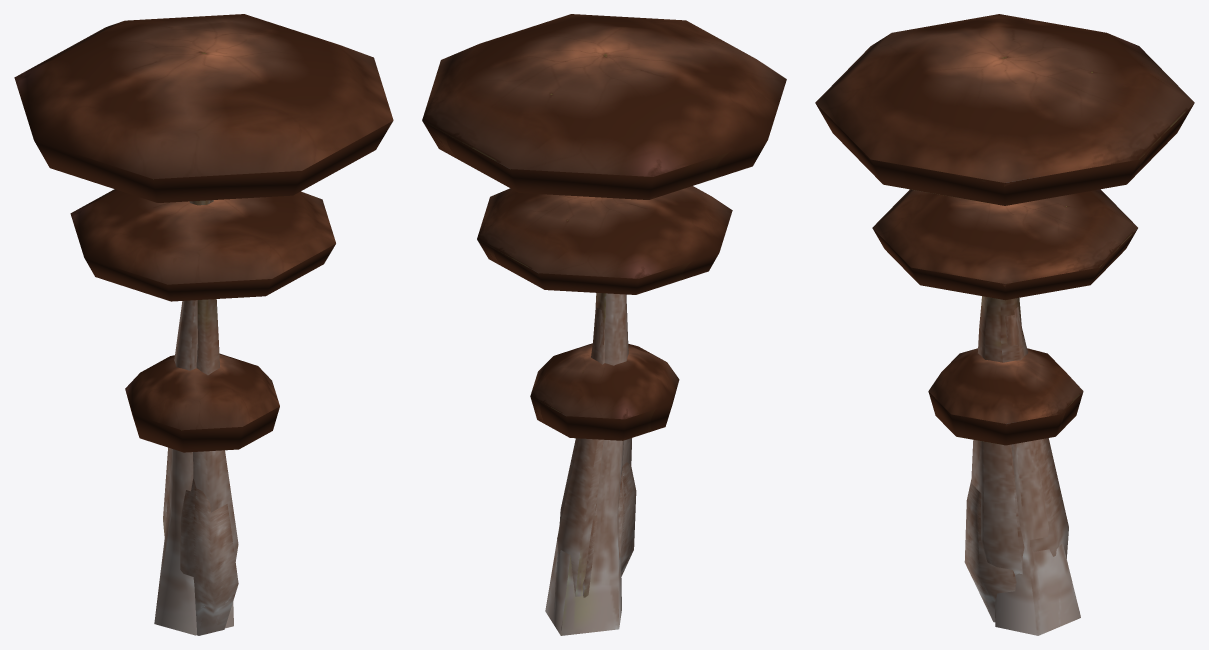
The model's file is mushroom.gltf.
The picture shows the model from 3 angles, left to right: view 1: azimuth 30°, elevation 25°; view 2: azimuth 150°, elevation 25°; view 3: azimuth 270°, elevation 25°; orthographic projection. The views are drawn at different scales.
Visible parts, largest first — view 1: shroom, shroom.001, shroom.002; view 2: shroom, shroom.001, shroom.002; view 3: shroom, shroom.001, shroom.002.
Boxes of the visible parts, x1=… form: shroom: x1=14, y1=14, x2=393, y2=635; shroom.001: x1=70, y1=189, x2=335, y2=561; shroom.002: x1=125, y1=353, x2=279, y2=635; shroom: x1=422, y1=14, x2=786, y2=635; shroom.001: x1=477, y1=186, x2=732, y2=596; shroom.002: x1=530, y1=343, x2=679, y2=597; shroom: x1=815, y1=14, x2=1194, y2=635; shroom.001: x1=872, y1=189, x2=1137, y2=574; shroom.002: x1=928, y1=348, x2=1083, y2=622.
Size of the model in its own units: 0.1107 by 0.1795 by 0.1107.
1 material, 1 textured.
